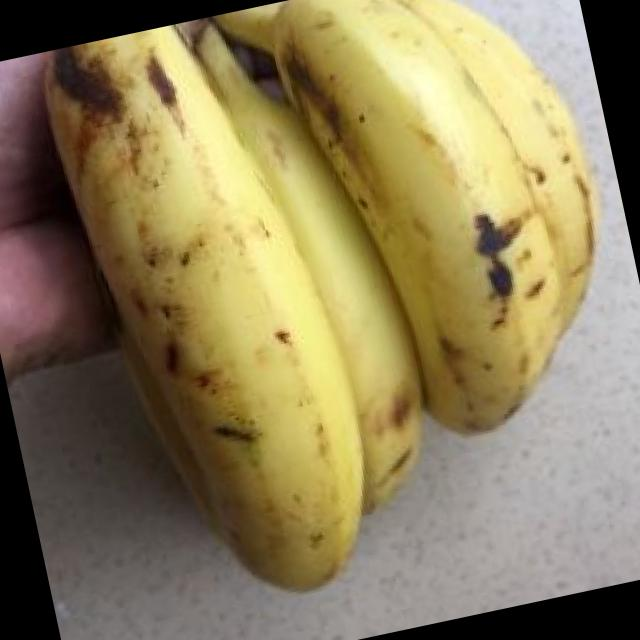banana: (137, 73, 561, 612)
